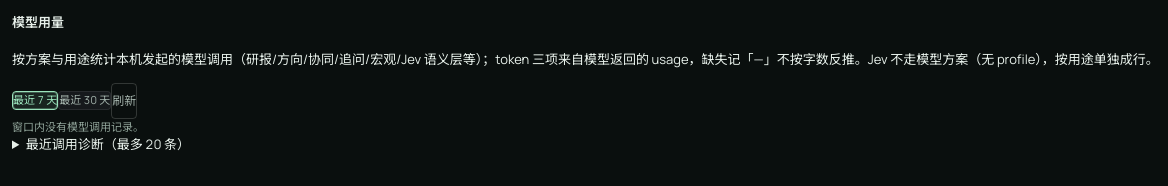
Test: retains same-window data on refresh failure but never labels old data as a new window
What coordinates should you click on to do the following:
click the button "刷新"
I would click on:
 (124, 101)
Its box is [111,83,137,119].
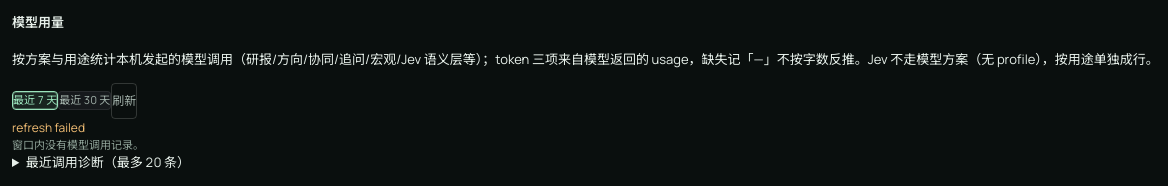
What coordinates should you click on to do the following:
click the button "最近 30 天"
I would click on:
 (85, 101)
Its box is [58,91,111,110].
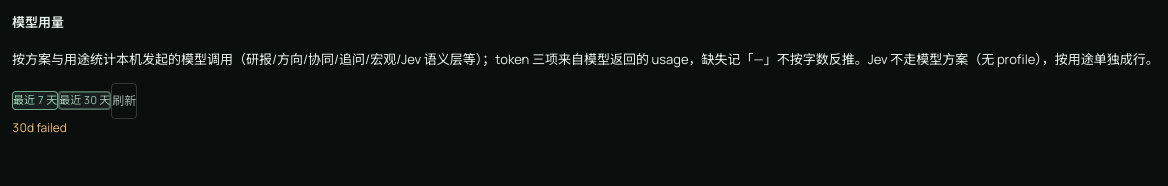
Expected: the message reads "30d failed", [12,119,67,136]
